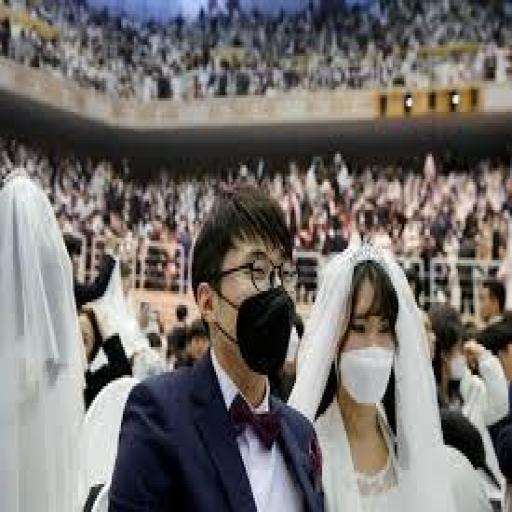mask: (192, 128, 300, 392), (326, 250, 404, 491)
